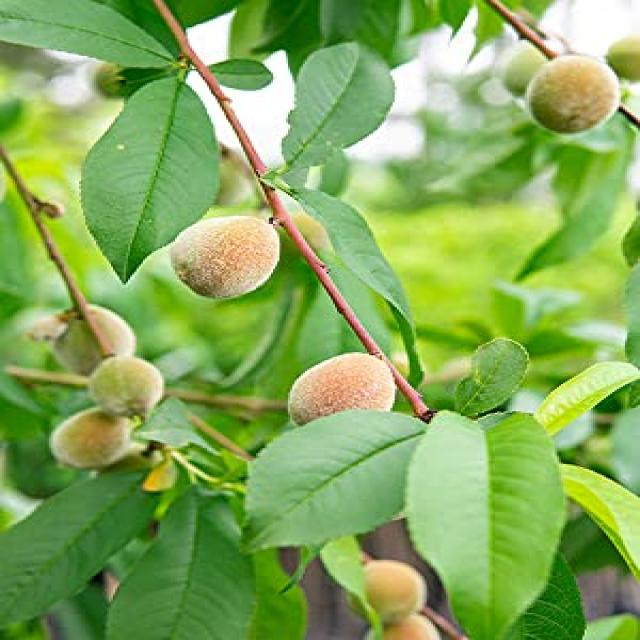Peach: (0, 16, 640, 640)
